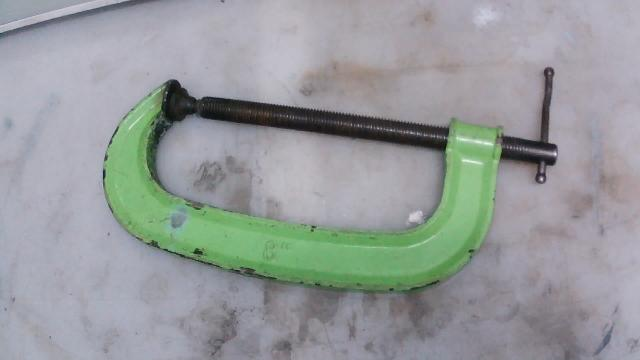tekiro_c_clamp: (84, 48, 617, 301)
